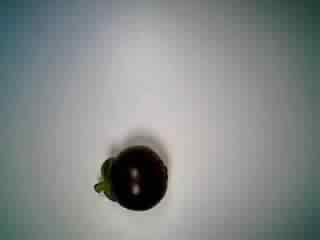mangosteen: (92, 139, 172, 216)
